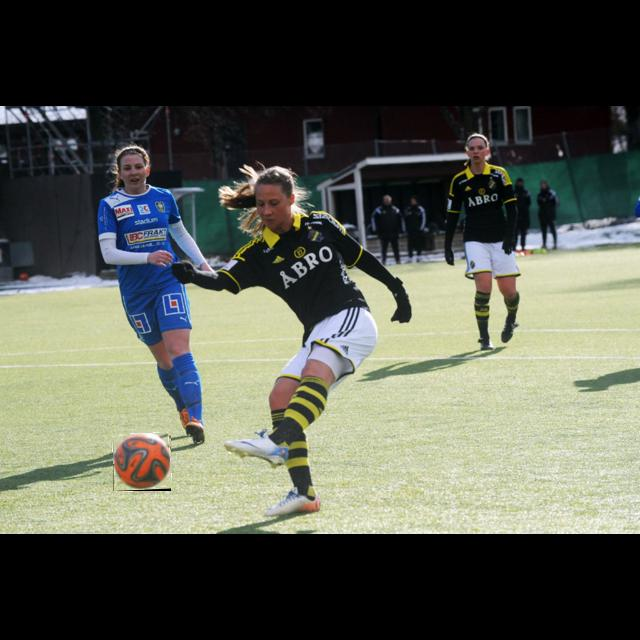Football: (113, 433, 171, 491)
